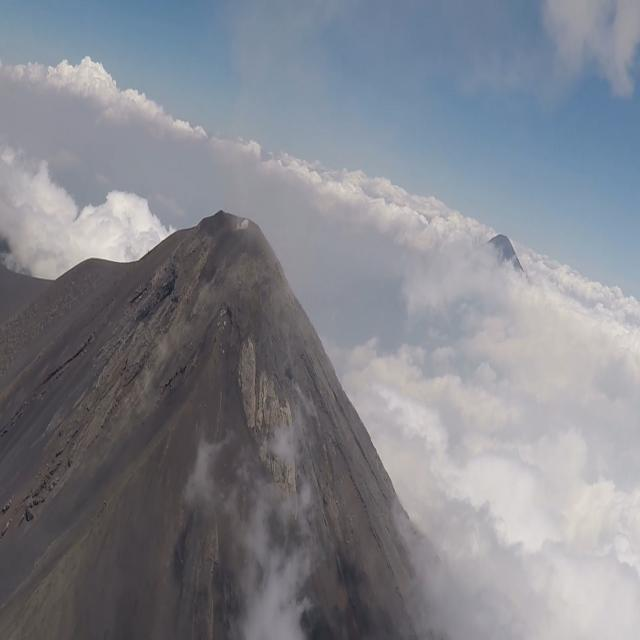Summit: (0, 183, 416, 525)
